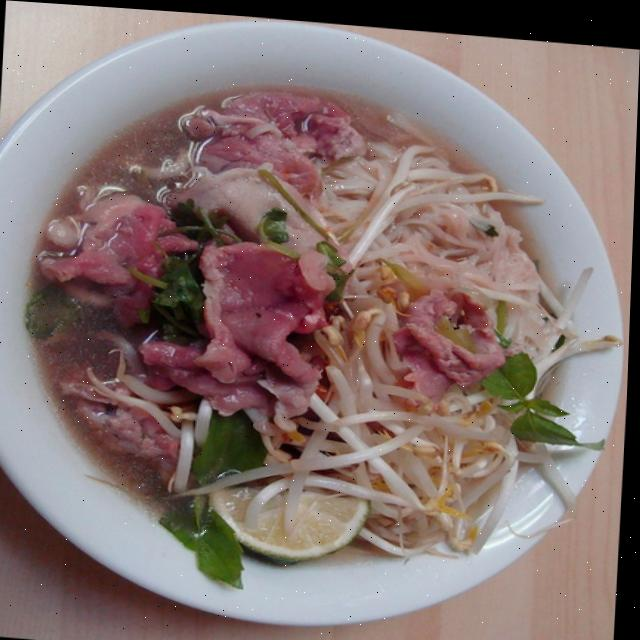面条主食: (8, 39, 602, 621)
